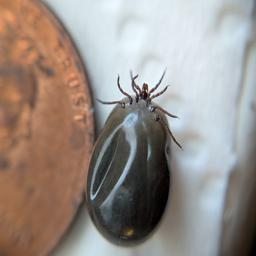Ixodes scapularis: (85, 68, 183, 248)
